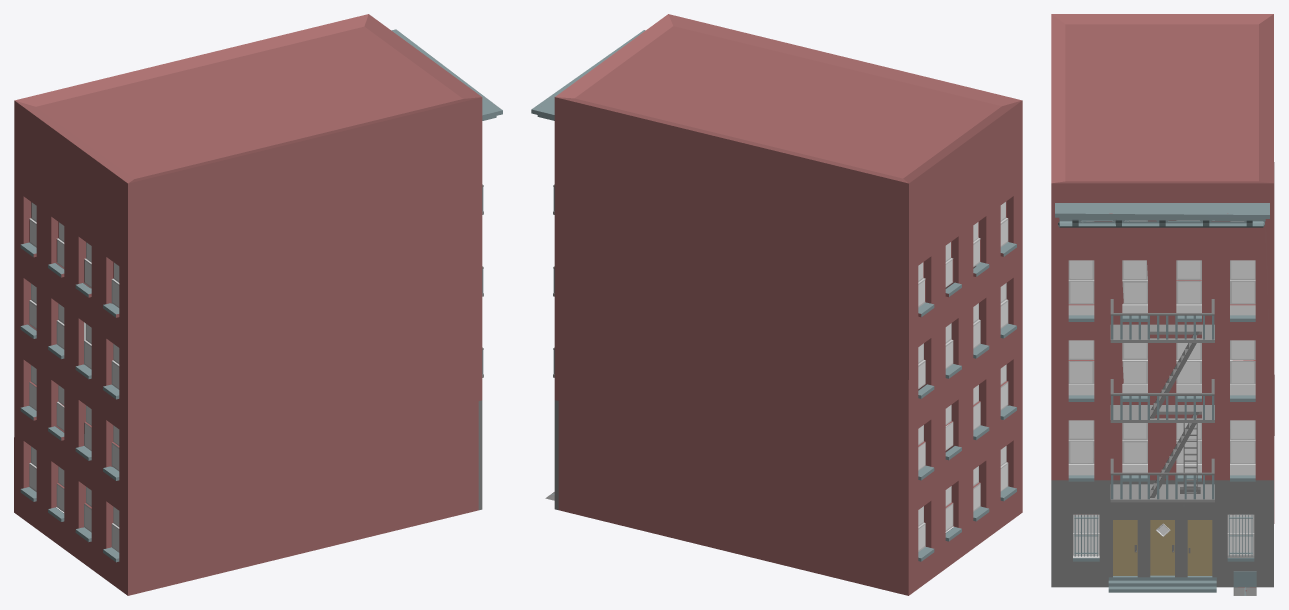
Rendered from Building_I2.fbx.
The picture shows the model from 3 angles, left to right: view 1: azimuth 30°, elevation 25°; view 2: azimuth 150°, elevation 25°; view 3: azimuth 270°, elevation 25°; orthographic projection. The views are drawn at different scales.
Visible parts, largest first — view 1: Building_I_2; view 2: Building_I_2; view 3: Building_I_2, Fire_escape_leader.
Boxes of the visible parts, x1=… form: Building_I_2: x1=14, y1=14, x2=502, y2=595; Building_I_2: x1=531, y1=14, x2=1022, y2=595; Building_I_2: x1=1051, y1=14, x2=1274, y2=595; Fire_escape_leader: x1=1110, y1=299, x2=1214, y2=506.
Bounding box in the file's own units: 1390 × 1407 × 704.
Materials: 3 (2 with a texture image).
